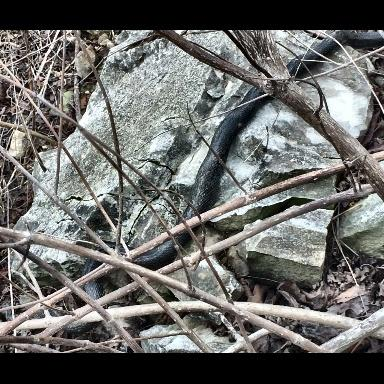snake: (35, 11, 384, 340)
